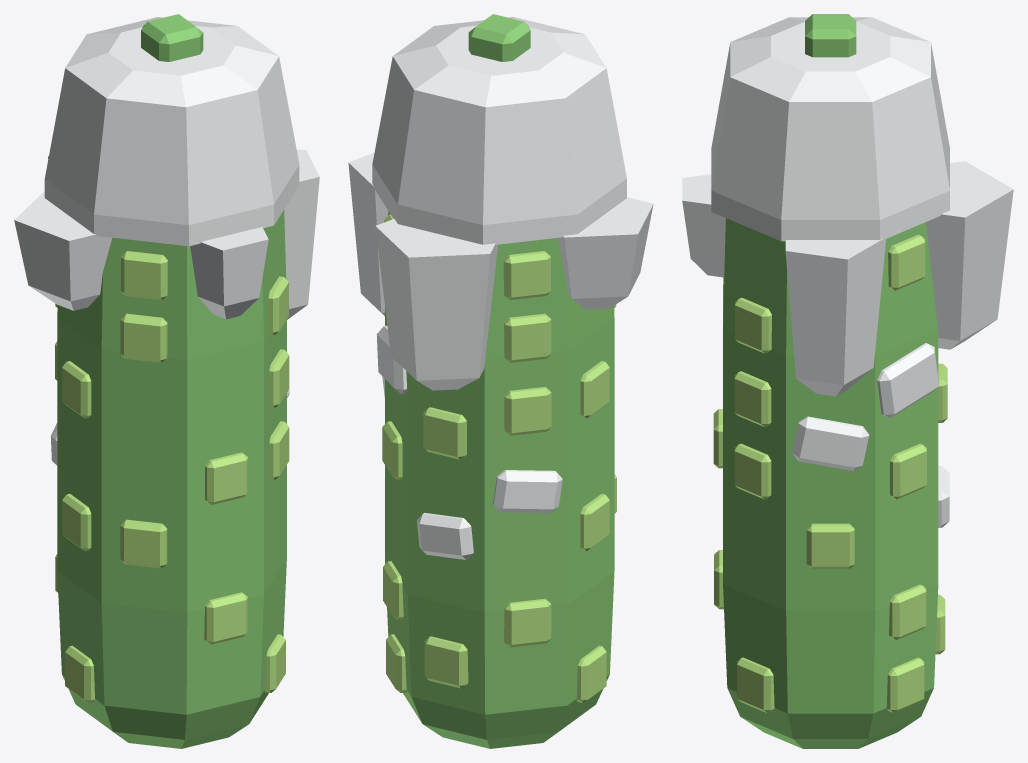
File: SnowSnowcapCucumber.fbx
3 views of the same model, side by side, from view 1: azimuth 30°, elevation 25°; view 2: azimuth 150°, elevation 25°; view 3: azimuth 270°, elevation 25° (orthographic).
Parts seen in each view (by area): view 1: SnowSnowcapCucumber.Body, SnowSnowcapCucumber.SnowCap, SnowSnowcapCucumber.Studs; view 2: SnowSnowcapCucumber.Body, SnowSnowcapCucumber.SnowCap, SnowSnowcapCucumber.Studs, SnowSnowcapCucumber.SnowPatches; view 3: SnowSnowcapCucumber.Body, SnowSnowcapCucumber.SnowCap, SnowSnowcapCucumber.Studs, SnowSnowcapCucumber.SnowPatches.
Part boxes in pixels (x1,y1,x2,y2): SnowSnowcapCucumber.Body: (57,14,286,748); SnowSnowcapCucumber.SnowCap: (14,17,319,319); SnowSnowcapCucumber.Studs: (55,251,289,703); SnowSnowcapCucumber.Body: (385,14,614,748); SnowSnowcapCucumber.SnowCap: (348,17,653,390); SnowSnowcapCucumber.Studs: (382,214,616,703); SnowSnowcapCucumber.SnowPatches: (376,325,562,559); SnowSnowcapCucumber.Body: (723,14,938,748); SnowSnowcapCucumber.SnowCap: (682,17,1013,396); SnowSnowcapCucumber.Studs: (713,234,947,712); SnowSnowcapCucumber.SnowPatches: (792,343,949,527).
Bounding box in the file's own units: 1.97 × 4.5 × 1.93.
